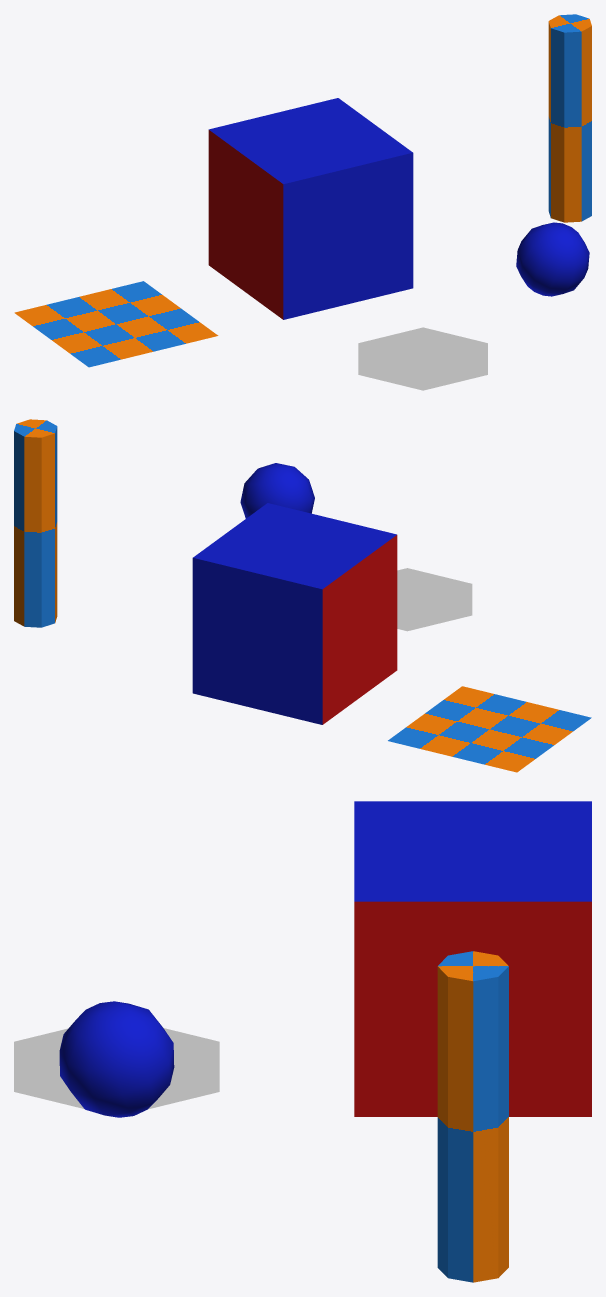
The model's file is blender_scene.obj.
3 views of the same model, one above another, from view 1: azimuth 30°, elevation 25°; view 2: azimuth 150°, elevation 25°; view 3: azimuth 270°, elevation 25° (orthographic). The views are drawn at different scales.
Visible parts, largest first — view 1: Cube, Plane, Skinned, Ngon, Sphere; view 2: Cube, Plane, Skinned, Ngon, Sphere; view 3: Cube, Skinned, Sphere, Ngon.
Boxes of the visible parts, box(x1,y1,x2,y2) form: Cube: box(208, 98, 413, 319); Plane: box(14, 281, 218, 367); Skinned: box(548, 14, 591, 222); Ngon: box(358, 327, 487, 390); Sphere: box(516, 222, 589, 296); Cube: box(192, 503, 397, 724); Plane: box(388, 686, 591, 772); Skinned: box(14, 419, 57, 627); Ngon: box(397, 568, 472, 631); Sphere: box(240, 463, 314, 518); Cube: box(354, 801, 591, 1116); Skinned: box(437, 951, 508, 1282); Sphere: box(59, 1001, 174, 1117); Ngon: box(14, 1028, 219, 1109).
Bounding box in the file's own units: 8.3 × 2.8 × 4.87.
